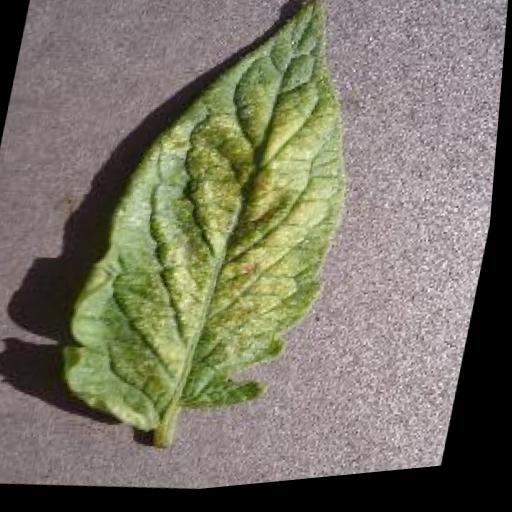Spider Mites: (55, 0, 385, 458)
